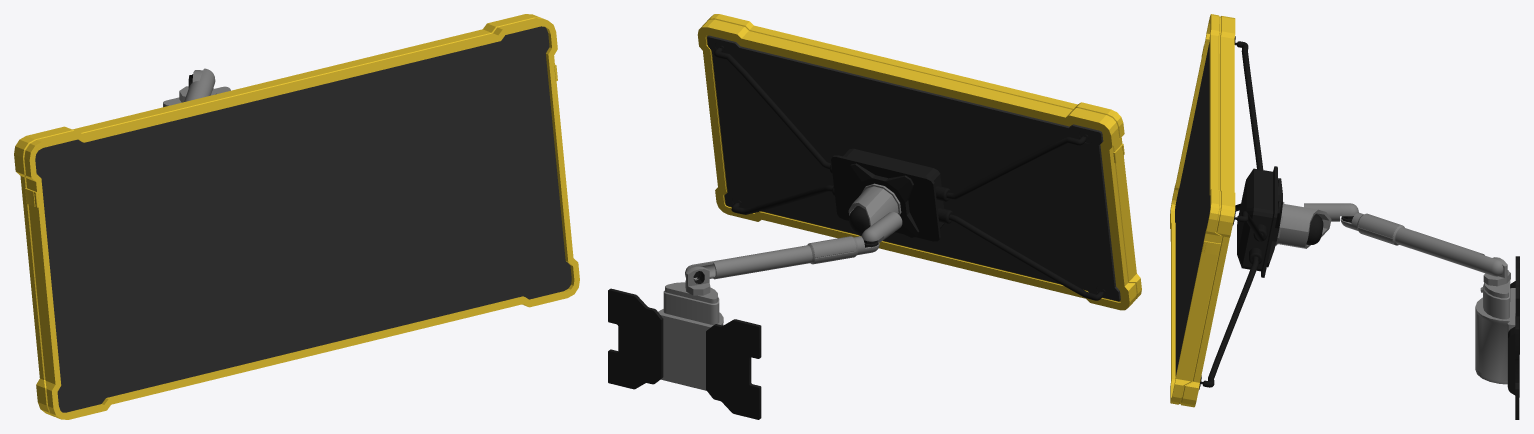
The model's file is monitor.fbx.
3 views of the same model, side by side, from view 1: azimuth 30°, elevation 25°; view 2: azimuth 150°, elevation 25°; view 3: azimuth 270°, elevation 25° (orthographic). The views are drawn at different scales.
Visible parts, largest first — view 1: monitor gaimer, tubo grande; view 2: monitor gaimer, soportes de la pared, caja de atras de la tele, sopore de la tele, tubo grande, soporte pared, soporte pared.001, super tornillo de la caja de atras, cilindro de la caja de atras, soporte del tubo, tornillo de la pared; view 3: monitor gaimer, tubo grande, caja de atras de la tele, soporte pared, sopore de la tele, cilindro de la caja de atras, soporte pared.001, soportes de la pared, soporte del tubo, soporte de pared, super tornillo de la caja de atras, tornillo de la pared (+1 smaller).
Part boxes in pixels (x1,y1,x2,y2): monitor gaimer: (14,14,579,419); tubo grande: (184,68,215,101); monitor gaimer: (697,14,1141,310); soportes de la pared: (608,288,761,419); caja de atras de la tele: (831,148,944,241); sopore de la tele: (714,47,1103,300); tubo grande: (685,236,879,280); soporte pared: (658,309,723,390); soporte pared.001: (663,282,719,324); super tornillo de la caja de atras: (848,163,919,237); cilindro de la caja de atras: (848,186,898,226); soporte del tubo: (861,212,902,242); tornillo de la pared: (685,266,710,295); monitor gaimer: (1170,14,1235,407); tubo grande: (1340,212,1503,276); caja de atras de la tele: (1237,166,1277,277); soporte pared: (1475,288,1515,386); sopore de la tele: (1203,41,1263,387); cilindro de la caja de atras: (1277,204,1331,248); soporte pared.001: (1483,270,1510,319); soportes de la pared: (1515,256,1519,419); soporte del tubo: (1304,203,1358,221); soporte de pared: (1508,281,1515,395); super tornillo de la caja de atras: (1267,178,1282,267); tornillo de la pared: (1483,257,1510,286).
Bounding box in the file's own units: 137 × 76.8 × 102.
